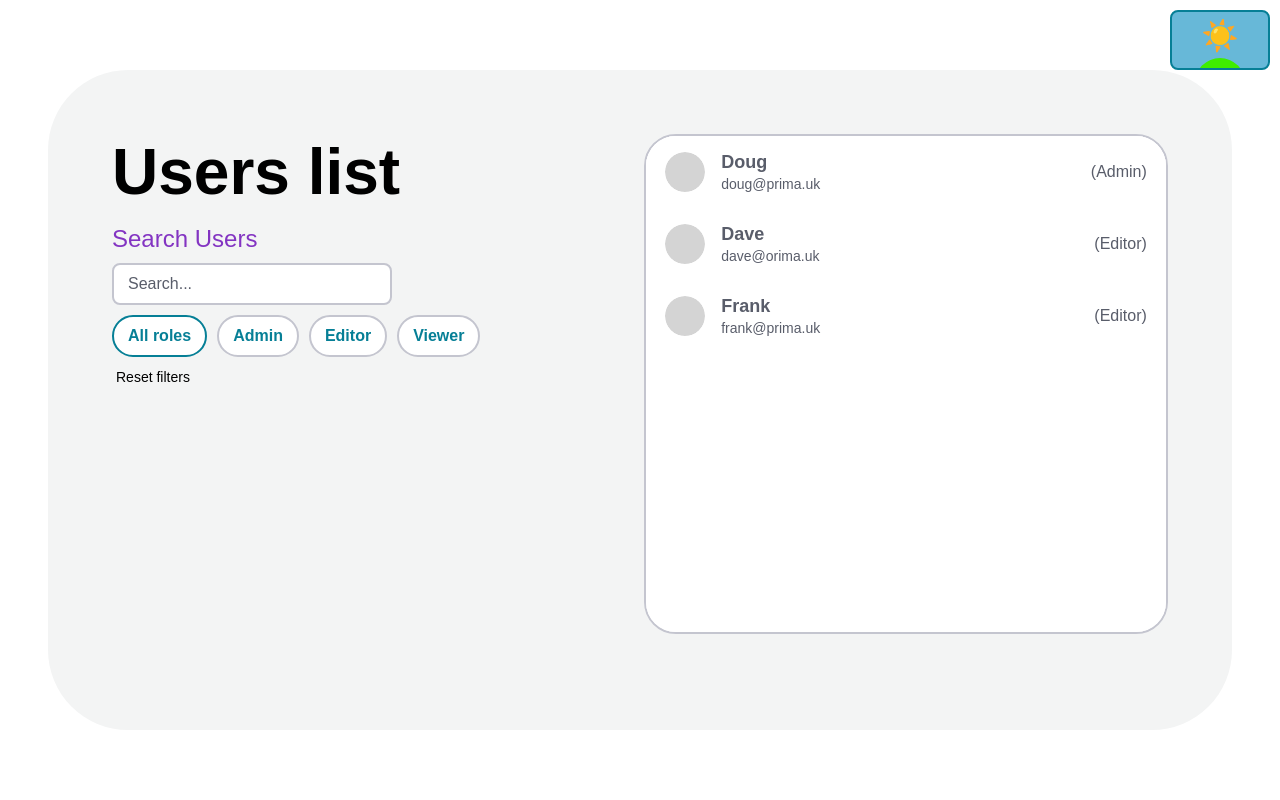
Test: SearchBox › filters the user list with an incomplete name input of `d`
Expected: the text "Doug" is shown, [721,152,767,173]
Expected: the text "Dave" is shown, [721,224,764,245]
Type "d" into the search field with placeholder "Search...". click: (252, 284)
box: [112,262,392,304]
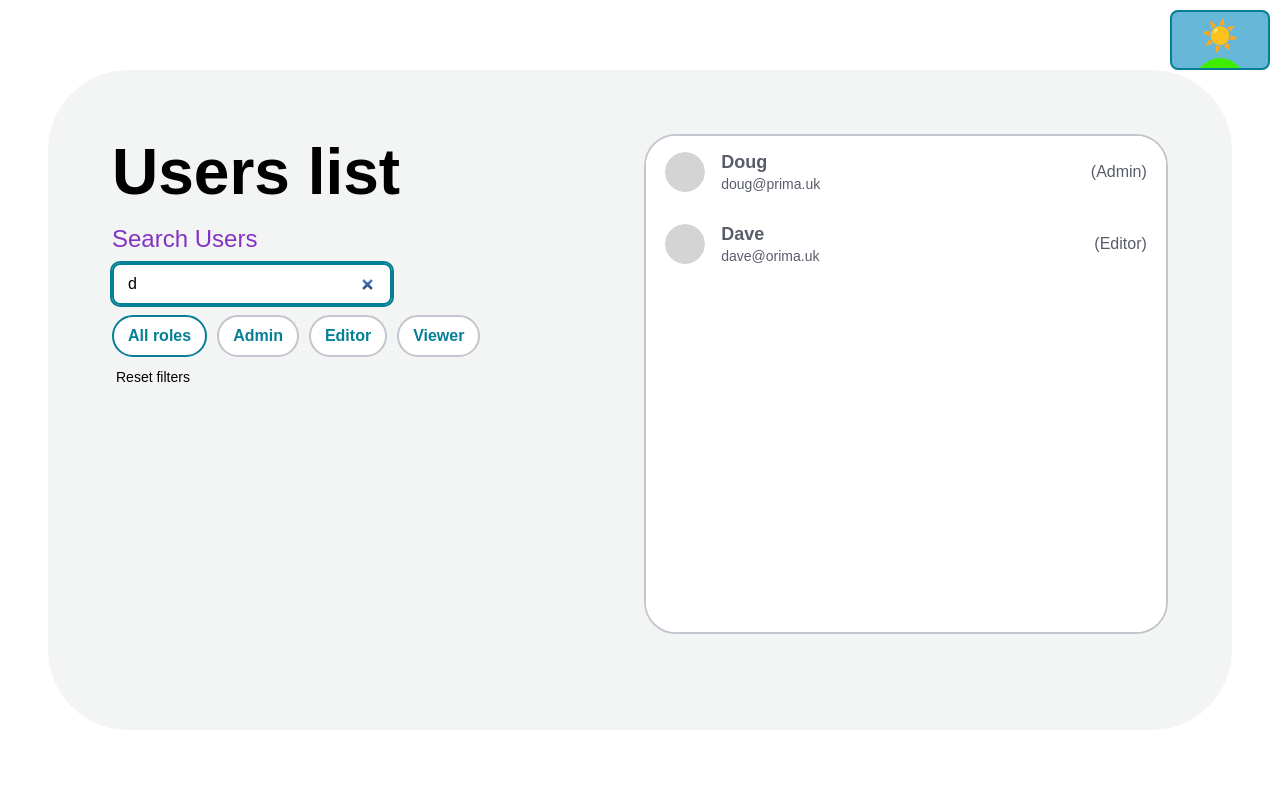
Expected: the text "Doug" is shown, [721,152,767,173]
Expected: the button "Frank" is gone
